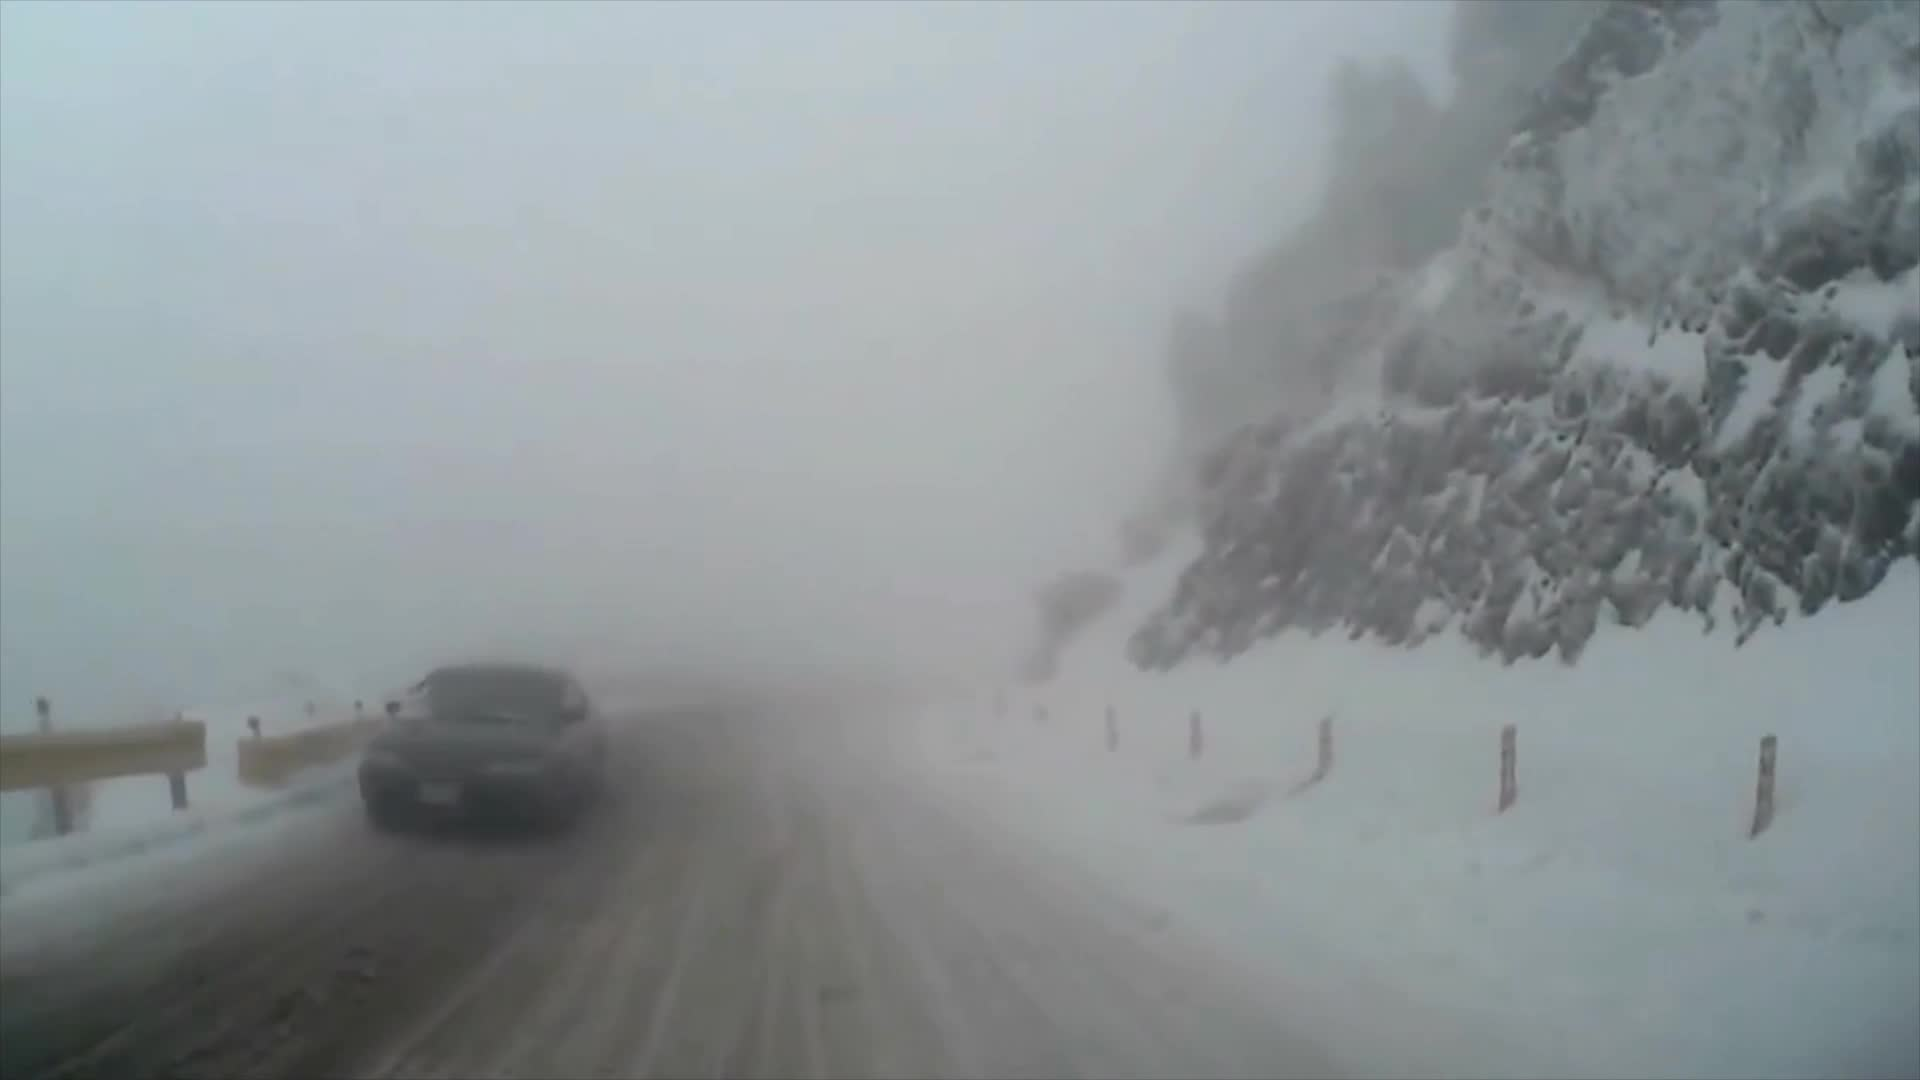vehicle: (355, 665, 607, 843)
